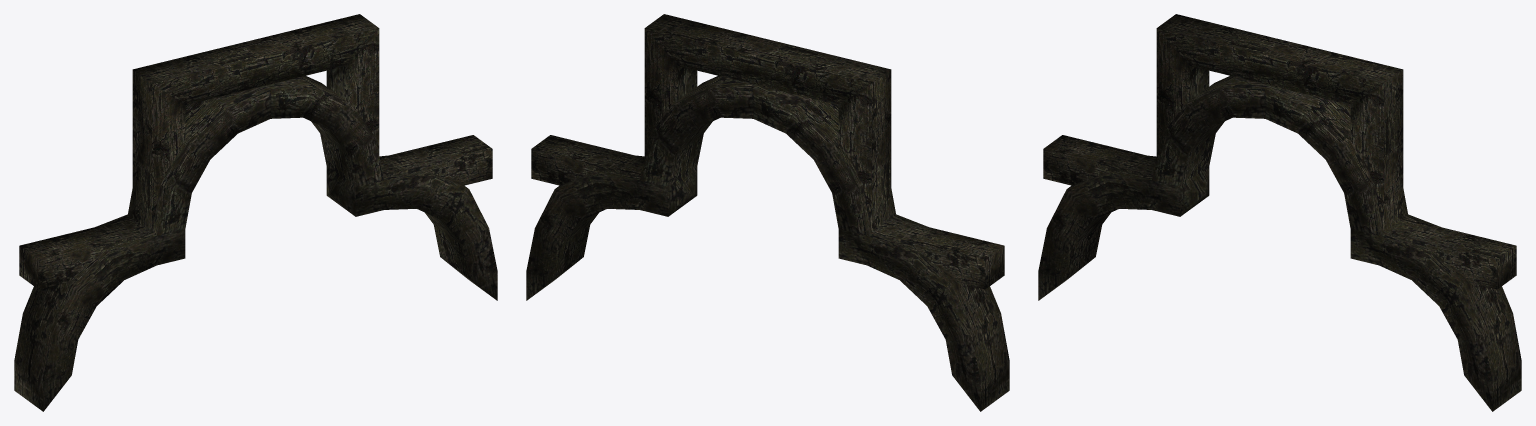
File: welder_arched.dae
3 views of the same model, side by side, from view 1: azimuth 30°, elevation 25°; view 2: azimuth 150°, elevation 25°; view 3: azimuth 330°, elevation 25° (orthographic).
Visible parts, largest first — view 1: polySurface5; view 2: polySurface5; view 3: polySurface5.
Part boxes in pixels (x1=…): polySurface5: x1=14, y1=14, x2=497, y2=411; polySurface5: x1=526, y1=14, x2=1009, y2=411; polySurface5: x1=1038, y1=14, x2=1521, y2=411.
Bounding box in the file's own units: 4 × 2.5 × 0.4452.
